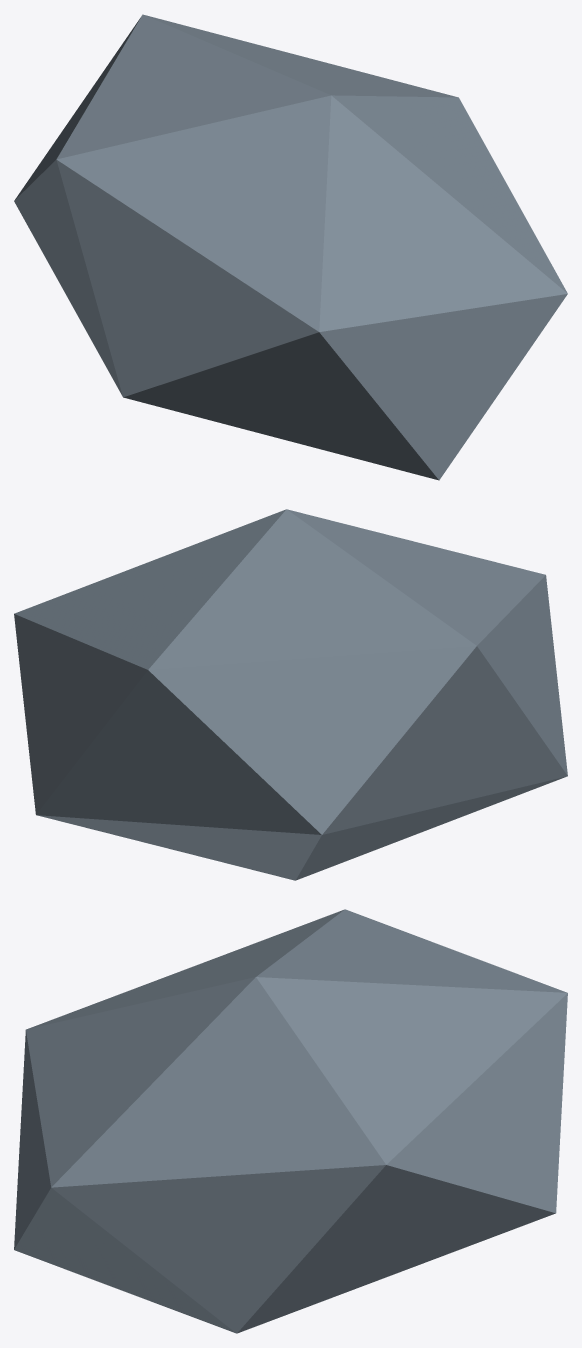
The model's file is INT_BC_RubbleSouth_00_Stone_3.glb.
The picture shows the model from 3 angles, top to bottom: view 1: azimuth 30°, elevation 25°; view 2: azimuth 150°, elevation 25°; view 3: azimuth 270°, elevation 25°; orthographic projection. The views are drawn at different scales.
Visible parts, largest first — view 1: INT_BC_RubbleSouth_00_Stone_3; view 2: INT_BC_RubbleSouth_00_Stone_3; view 3: INT_BC_RubbleSouth_00_Stone_3.
Part boxes in pixels (bbox=[...]): INT_BC_RubbleSouth_00_Stone_3: bbox=[14, 14, 567, 480]; INT_BC_RubbleSouth_00_Stone_3: bbox=[14, 509, 567, 880]; INT_BC_RubbleSouth_00_Stone_3: bbox=[14, 909, 567, 1333].
Size of the model in its own units: 0.1516 by 0.1067 by 0.1727.
